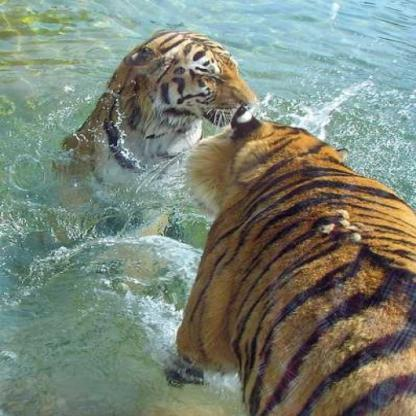Tiger: (160, 113, 415, 415), (44, 12, 266, 216)
